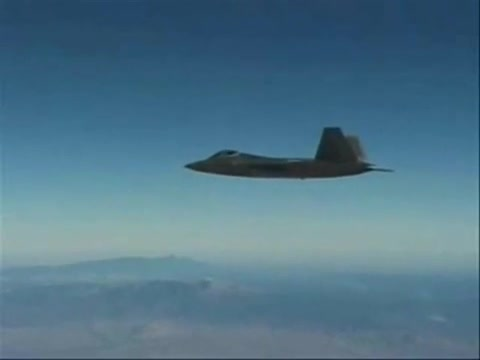aeroplane: (182, 124, 399, 180)
